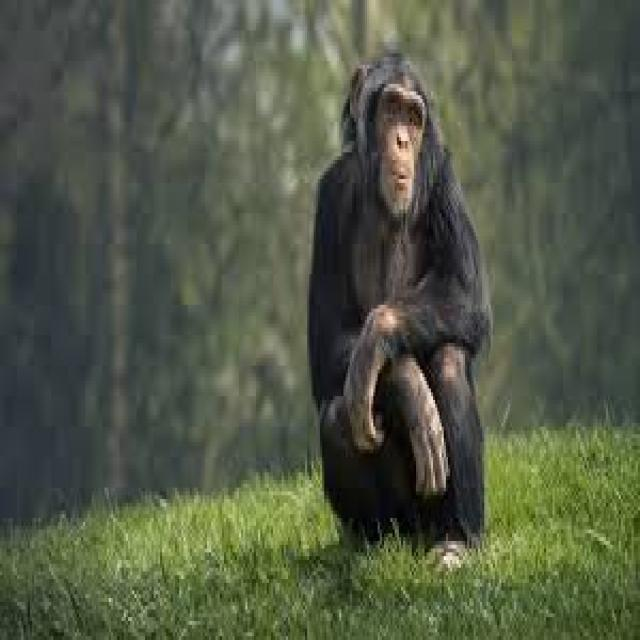Chimpanzee: (315, 63, 485, 533)
